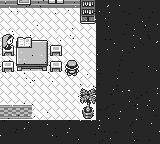leer: (17, 36, 32, 48), (17, 0, 31, 5)
main: (64, 60, 80, 76)
no-caminable: (0, 0, 159, 143), (16, 40, 48, 71), (80, 88, 96, 120), (32, 0, 79, 8), (80, 0, 95, 23), (1, 0, 16, 8)
npc: (2, 34, 14, 52)
puerta: (0, 104, 36, 119)
